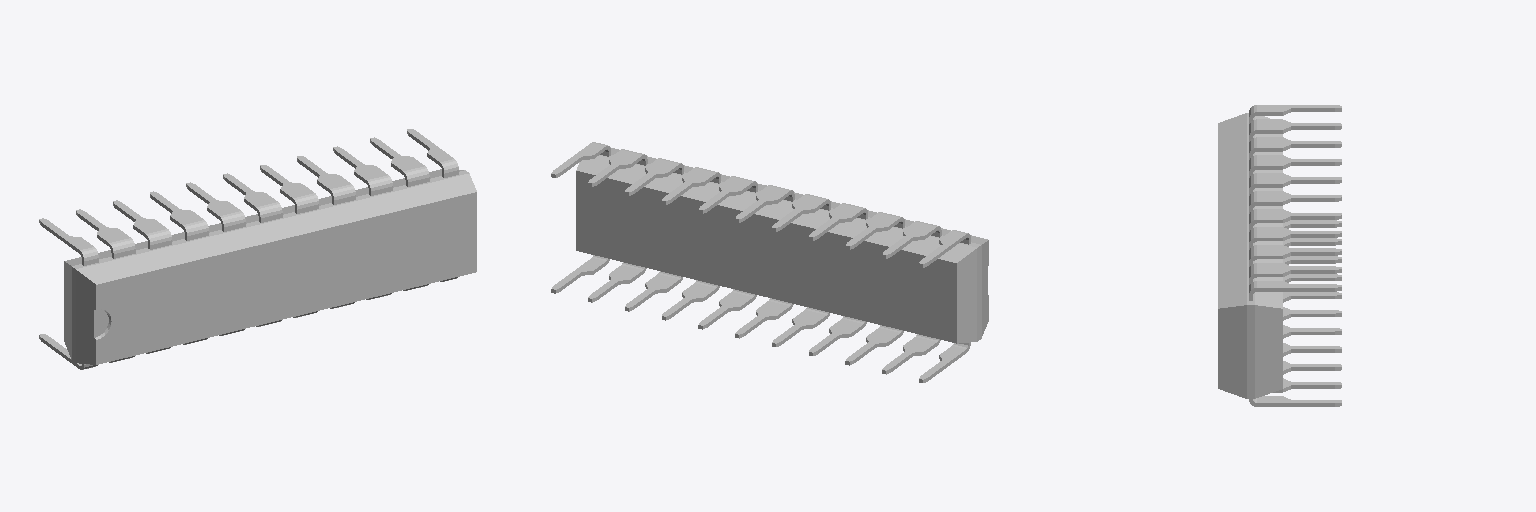
File: DIP-22P-M04.obj
3 views of the same model, side by side, from view 1: azimuth 30°, elevation 25°; view 2: azimuth 150°, elevation 25°; view 3: azimuth 270°, elevation 25° (orthographic).
Parts seen in each view (by area): view 1: Solid1; view 2: Solid1; view 3: Solid1.
Part boxes in pixels (left/top/right/bottom): Solid1: left=39, top=129, right=476, bottom=369; Solid1: left=551, top=142, right=988, bottom=382; Solid1: left=1218, top=105, right=1341, bottom=406.
Bounding box in the file's own units: 27.2 × 7.87 × 7.36.